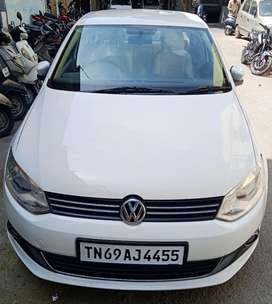TN69AJ4455: (79, 242, 184, 264)
